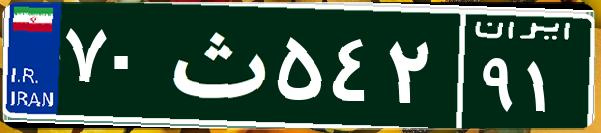0: (110, 28, 158, 105)
1: (525, 38, 570, 115)
2: (385, 28, 445, 110)
4: (330, 28, 385, 110)
5: (273, 28, 330, 110)
7: (57, 26, 110, 107)
9: (475, 38, 525, 113)
ث: (158, 15, 273, 115)
